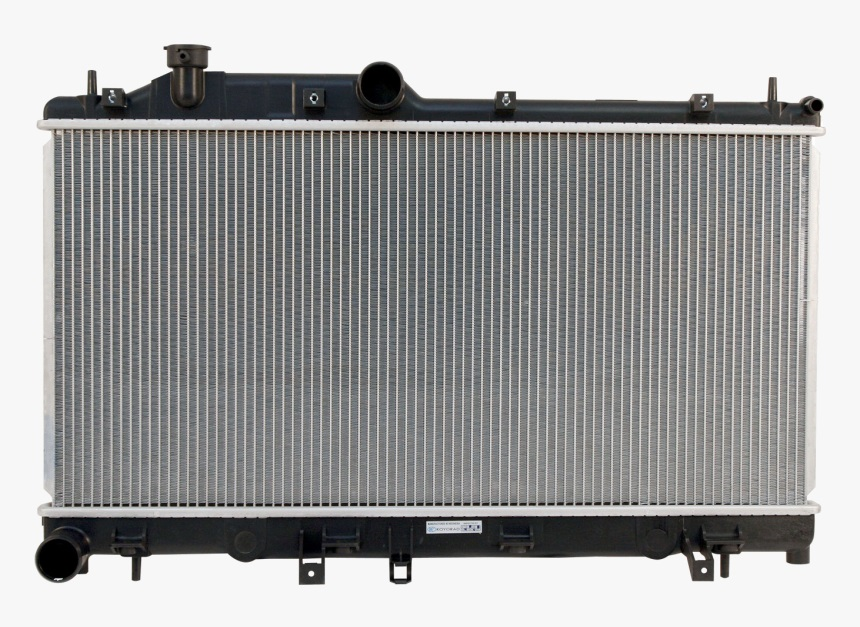c1: (86, 67, 128, 116)
c10: (232, 526, 260, 559)
c11: (297, 521, 363, 585)
c12: (386, 523, 415, 584)
c13: (497, 518, 536, 557)
c14: (684, 526, 746, 582)
c2: (161, 41, 211, 109)
c3: (301, 86, 326, 110)
c4: (357, 59, 406, 113)
c5: (495, 90, 519, 112)
c6: (691, 91, 715, 115)
c7: (767, 75, 826, 123)
c8: (29, 525, 93, 587)
c9: (110, 524, 151, 582)
